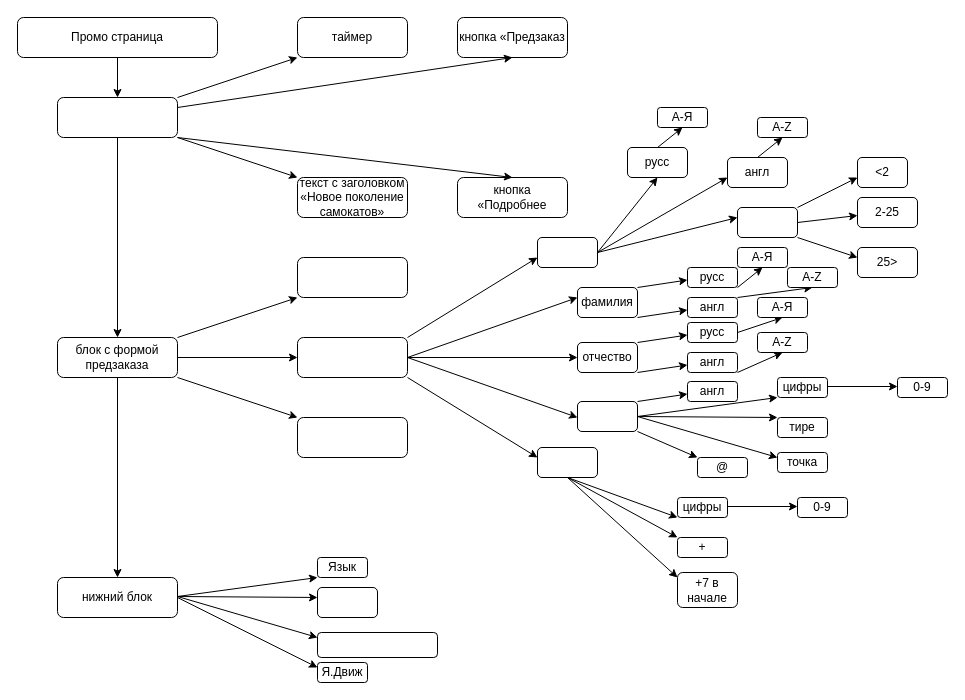
Image size: 965x700. Some labels were removed from this diagram. Each missing label, with the box of its shape:
mail: (576, 400, 638, 432)
Верхний блок: (56, 96, 178, 138)
имя: (536, 236, 598, 268)
Инфо о кол-ве подписавшихся: (296, 256, 408, 298)
Кнопка заказа: (296, 416, 408, 458)
кол-во символов: (736, 206, 798, 238)
Обратная связь: (316, 586, 378, 618)
Пользовательское соглашение: (316, 632, 438, 658)
телефон номер: (536, 446, 598, 478)
форма предзаказа поля: (296, 336, 408, 378)
